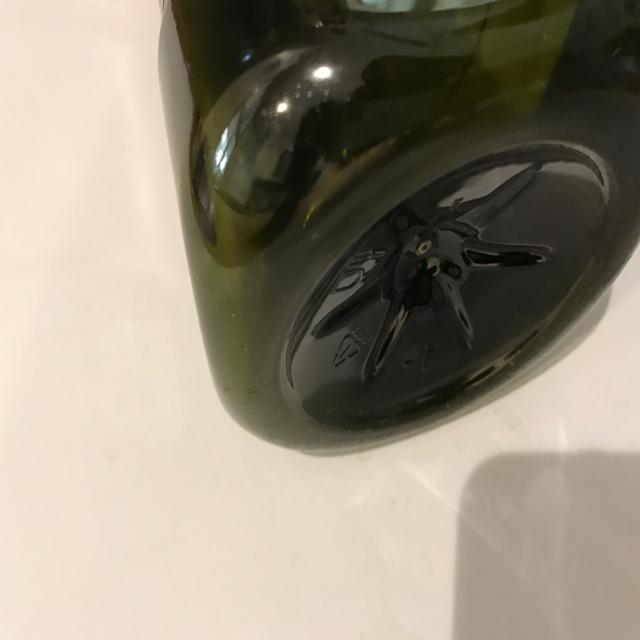plastic: (155, 0, 640, 456)
